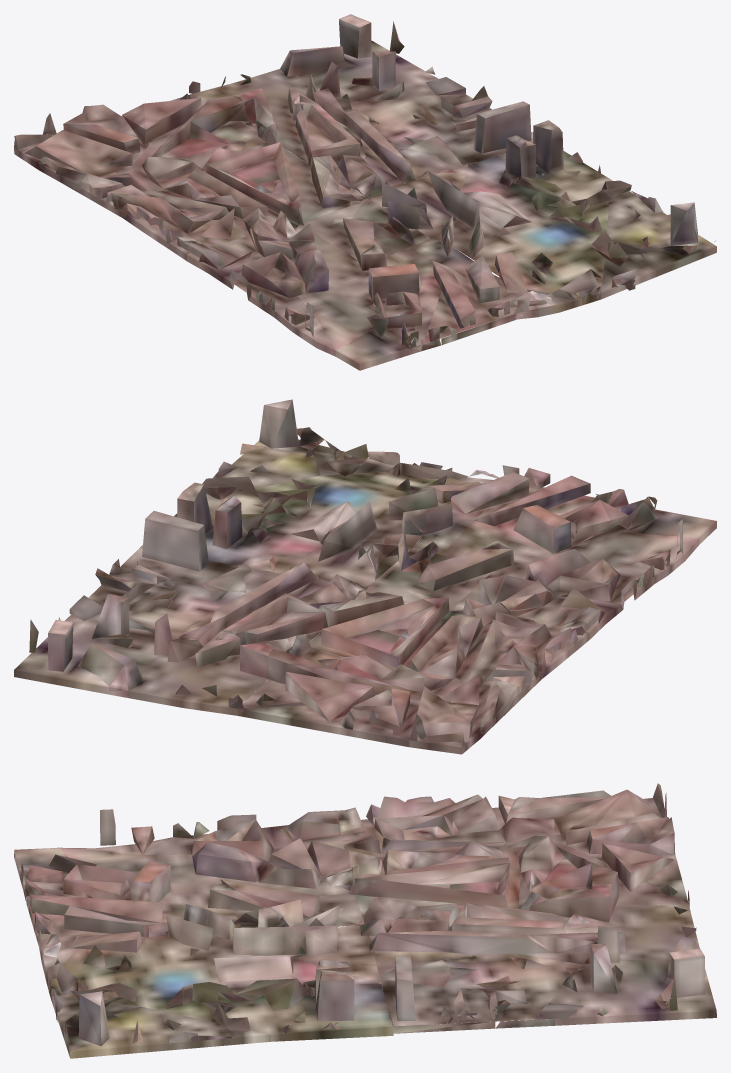
The picture shows the model from 3 angles, top to bottom: view 1: azimuth 30°, elevation 25°; view 2: azimuth 150°, elevation 25°; view 3: azimuth 270°, elevation 25°; orthographic projection. The views are drawn at different scales.
Parts seen in each view (by area): view 1: Mesh_0; view 2: Mesh_0; view 3: Mesh_0.
Boxes of the visible parts, box(x1,y1,x2,y2) form: Mesh_0: box(14, 14, 716, 370); Mesh_0: box(14, 399, 716, 754); Mesh_0: box(14, 783, 716, 1058).
Bounding box in the file's own units: 532 × 74.38 × 659.
Materials: 2 (2 with a texture image).
